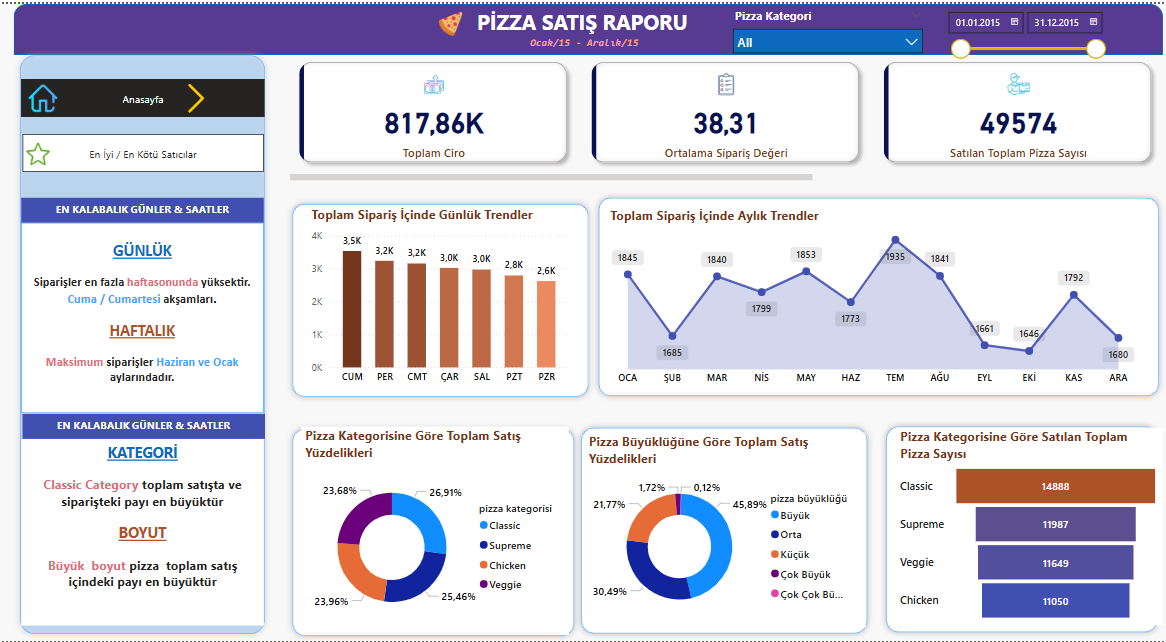

The page's visual inventory and layout, read from the dashboard file:
{"tool":"powerbi","page":{"name":"Anasayfa","canvas":[1500,820],"ordinal":0},"visuals":[{"type":"cardVisual","fields":{"Data":["pizza_sales1.Toplam Ciro","pizza_sales1.Ortalama Sipariş Değeri","pizza_sales1.Satılan Toplam Pizza Sayısı","pizza_sales1.Toplam Sipariş Sayısı","pizza_sales1.Sipariş Başına Düşen Pizza Sayısı"]},"box":[368.2,57.9,1132.1,176.9],"z":0},{"type":"shape","box":[18.2,0,1478.5,65.7],"z":1000},{"type":"textbox","box":[603.7,0,292.1,48.9],"z":2000},{"type":"textbox","box":[676.3,34.9,188.7,27.9],"z":3000},{"type":"image","box":[554.8,4.2,48.9,41.9],"z":4000},{"type":"shape","box":[368.9,248.7,396.9,264.1],"z":5000},{"type":"shape","box":[17.7,57.9,331.3,760.6],"z":6000},{"type":"columnChart","title":"Toplam Sipariş İçinde Günlük Trendler","fields":{"Y":["pizza_sales1.Toplam Sipariş Sayısı"],"Category":["pizza_sales1.Sipariş Günü"]},"box":[395.5,258.5,342.4,239],"z":7000},{"type":"shape","box":[763,241.8,736.4,271.1],"z":8000},{"type":"areaChart","title":"Toplam Sipariş İçinde Aylık Trendler","fields":{"Y":["pizza_sales1.Toplam Sipariş Sayısı"],"Category":["pizza_sales1.Sipariş Ayı"]},"box":[779.8,259.9,687.5,239],"z":9000},{"type":"shape","box":[368.9,538,378.7,282.3],"z":10000},{"type":"shape","box":[739.2,536.6,384.3,280.9],"z":11000},{"type":"shape","box":[1131.9,535.2,364.7,280.9],"z":12000},{"type":"donutChart","title":"Pizza Kategorisine Göre Toplam Satış Yüzdelikleri","fields":{"Category":["pizza_sales1.pizza_category"],"Y":["pizza_sales1.Toplam Ciro"]},"box":[387.1,543.6,343.8,268.3],"z":13000},{"type":"donutChart","title":"Pizza Büyüklüğüne Göre Toplam Satış Yüzdelikleri","fields":{"Category":["pizza_sales1.pizza_size"],"Y":["pizza_sales1.Toplam Ciro"]},"box":[751.8,552,360.5,250.1],"z":14000},{"type":"funnel","title":"Pizza Kategorisine Göre Satılan Toplam Pizza Sayısı","fields":{"Category":["pizza_sales1.pizza_category"],"Y":["pizza_sales1.Satılan Toplam Pizza Sayısı"]},"box":[1153.1,545.7,343.2,254.3],"z":15000},{"type":"textbox","box":[29.3,528.2,311.6,32.1],"z":16000},{"type":"textbox","box":[27.9,280.9,311.6,244.5],"z":17000},{"type":"textbox","box":[27.9,248.7,311.6,32.1],"z":18000},{"type":"textbox","box":[27.3,559.6,312,239.6],"z":19000},{"type":"slicer","fields":{"Values":["pizza_sales1.pizza_category"]},"box":[932.1,0,264.1,68.5],"z":20000},{"type":"slicer","fields":{"Values":["pizza_sales1.order_date"]},"box":[1207.4,0,223.6,71.3],"z":21000},{"type":"pageNavigator","box":[27.3,96.5,313.6,49.9],"z":22000},{"type":"pageNavigator","box":[28.9,167.2,310.4,49.9],"z":23000},{"type":"image","box":[228.3,96.5,48.2,49.9],"z":24000},{"type":"image","box":[28.9,98.1,53.1,46.6],"z":25000},{"type":"image","box":[28.9,164,40.2,57.9],"z":26000}]}

Visuals, with their boxes in screenshot pixels (x1, y1, x2, y2), scaled from the page's 1500x820 canvas onto the 1166x642 screenshot:
cardVisual - pizza_sales1.Toplam Ciro x pizza_sales1.Ortalama Sipariş Değeri: bbox(286, 45, 1165, 184)
shape: bbox(14, 0, 1163, 51)
textbox: bbox(469, 0, 696, 38)
textbox: bbox(526, 27, 672, 49)
image: bbox(431, 3, 469, 36)
shape: bbox(287, 195, 595, 401)
shape: bbox(14, 45, 271, 641)
"Toplam Sipariş İçinde Günlük Trendler" columnChart: bbox(307, 202, 574, 390)
shape: bbox(593, 189, 1165, 402)
"Toplam Sipariş İçinde Aylık Trendler" areaChart: bbox(606, 203, 1141, 391)
shape: bbox(287, 421, 581, 641)
shape: bbox(575, 420, 873, 640)
shape: bbox(880, 419, 1163, 639)
"Pizza Kategorisine Göre Toplam Satış Yüzdelikleri" donutChart: bbox(301, 426, 568, 636)
"Pizza Büyüklüğüne Göre Toplam Satış Yüzdelikleri" donutChart: bbox(584, 432, 865, 628)
"Pizza Kategorisine Göre Satılan Toplam Pizza Sayısı" funnel: bbox(896, 427, 1163, 626)
textbox: bbox(23, 414, 265, 439)
textbox: bbox(22, 220, 264, 411)
textbox: bbox(22, 195, 264, 220)
textbox: bbox(21, 438, 264, 626)
slicer - pizza_sales1.pizza_category: bbox(725, 0, 930, 54)
slicer - pizza_sales1.order_date: bbox(939, 0, 1112, 56)
pageNavigator: bbox(21, 76, 265, 115)
pageNavigator: bbox(22, 131, 264, 170)
image: bbox(177, 76, 215, 115)
image: bbox(22, 77, 64, 113)
image: bbox(22, 128, 54, 174)
